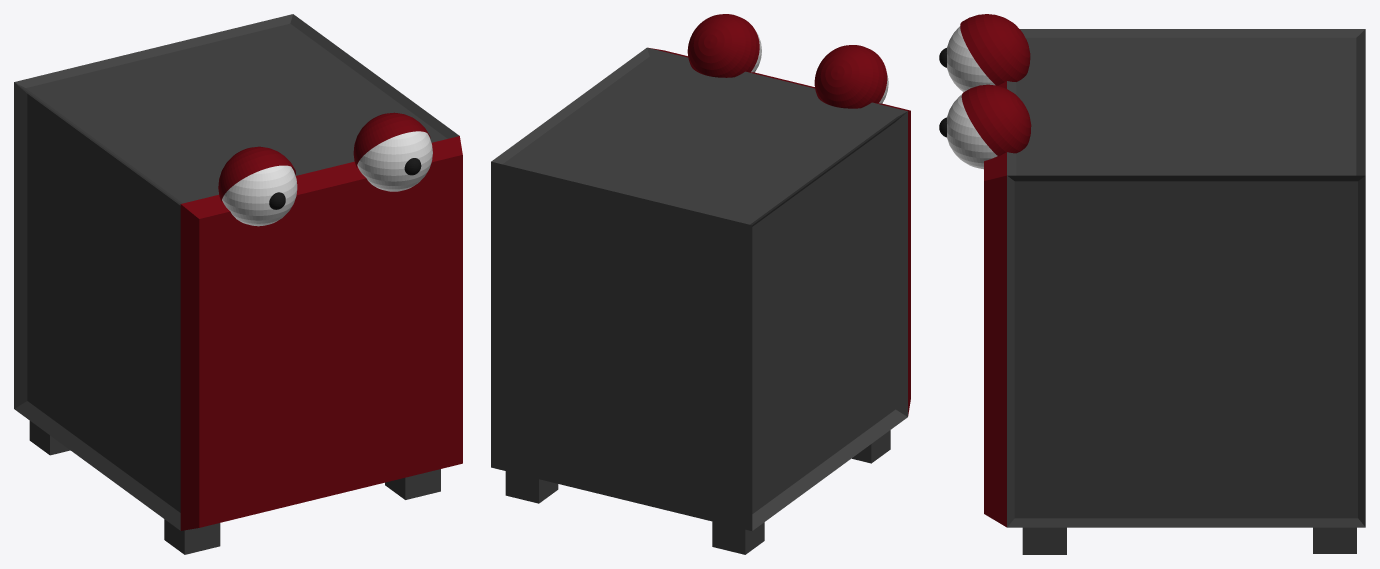
The model's file is Oven.fbx.
3 views of the same model, side by side, from view 1: azimuth 30°, elevation 25°; view 2: azimuth 150°, elevation 25°; view 3: azimuth 270°, elevation 25° (orthographic). The views are drawn at different scales.
Parts seen in each view (by area): view 1: body, lid, eye_r, eye_l; view 2: body, lid; view 3: body, lid, eye_r, eye_l.
Part boxes in pixels (bbox=[...]): body: bbox=[14, 14, 459, 554]; lid: bbox=[180, 112, 462, 530]; eye_r: bbox=[357, 131, 432, 191]; eye_l: bbox=[222, 165, 297, 226]; body: bbox=[491, 47, 907, 554]; lid: bbox=[648, 14, 910, 415]; body: bbox=[1007, 29, 1365, 554]; lid: bbox=[960, 14, 1031, 527]; eye_r: bbox=[939, 94, 997, 169]; eye_l: bbox=[939, 26, 995, 91].
Bounding box in the file's own units: 0.9666 × 1.33 × 1.19.
1 material, 1 textured.
